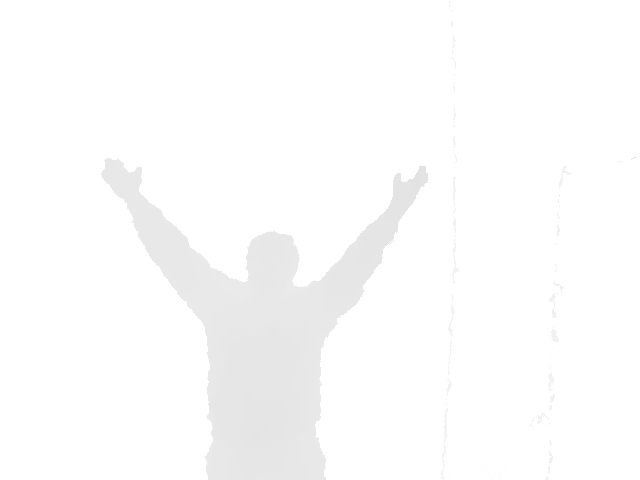hand: (100, 156, 147, 199), (391, 164, 430, 209)
head: (243, 230, 301, 287)
person: (101, 156, 430, 479)
